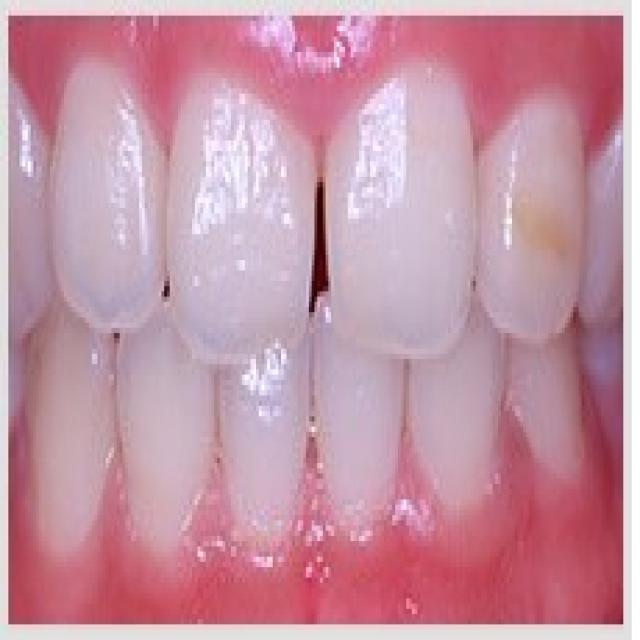tooth: (323, 68, 476, 359), (175, 62, 320, 354), (31, 88, 167, 333), (484, 94, 590, 328), (28, 323, 117, 588), (120, 307, 203, 567), (209, 338, 306, 546), (314, 359, 414, 536), (426, 348, 504, 504), (506, 348, 584, 478)
